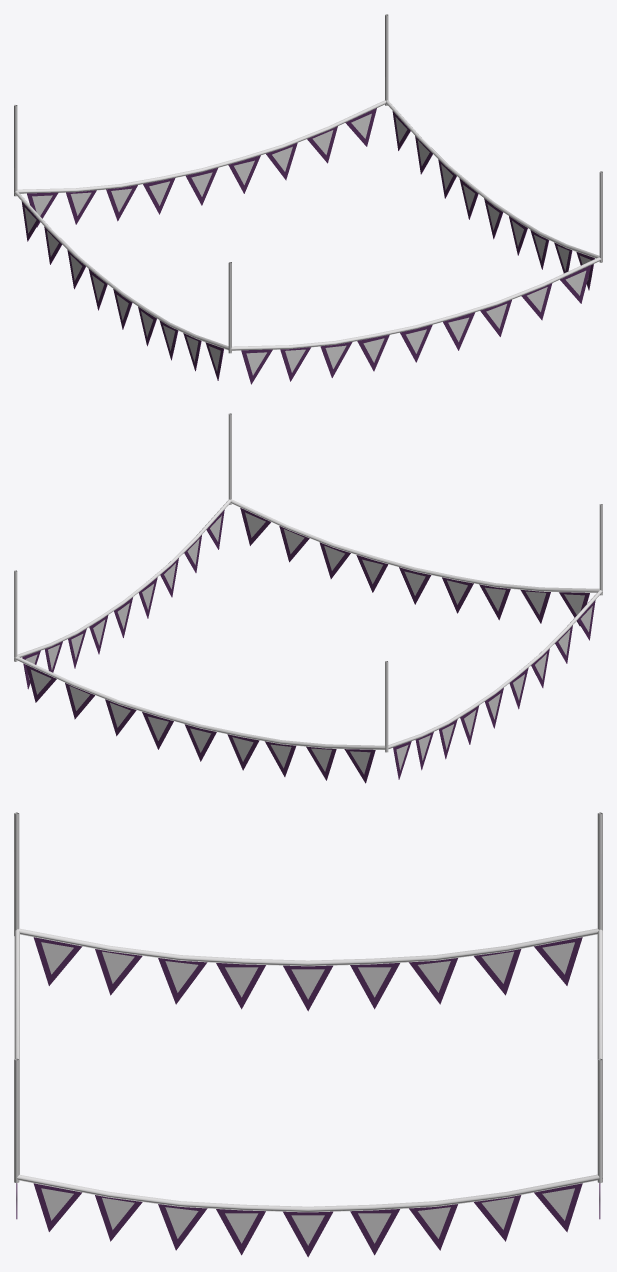
The model's file is SM_donutsDecoration_01.glb.
The picture shows the model from 3 angles, top to bottom: view 1: azimuth 30°, elevation 25°; view 2: azimuth 150°, elevation 25°; view 3: azimuth 270°, elevation 25°; orthographic projection. The views are drawn at different scales.
Visible parts, largest first — view 1: SM_donutsDecoration_01; view 2: SM_donutsDecoration_01; view 3: SM_donutsDecoration_01.
Boxes of the visible parts, x1,y1,x2,y2 form: SM_donutsDecoration_01: [14, 14, 602, 384]; SM_donutsDecoration_01: [14, 413, 602, 783]; SM_donutsDecoration_01: [14, 812, 602, 1257].
Bounding box in the file's own units: 2.02 × 0.7505 × 2.02.
Materials: 1 (1 with a texture image).
